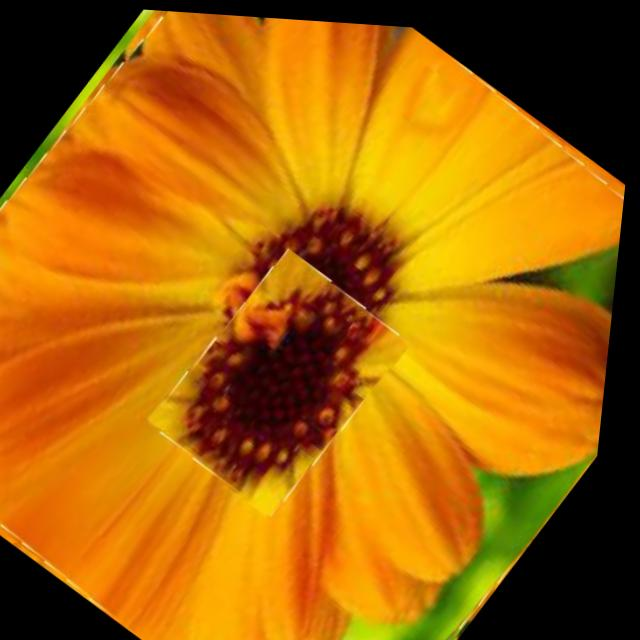Flower: (148, 236, 424, 522)
